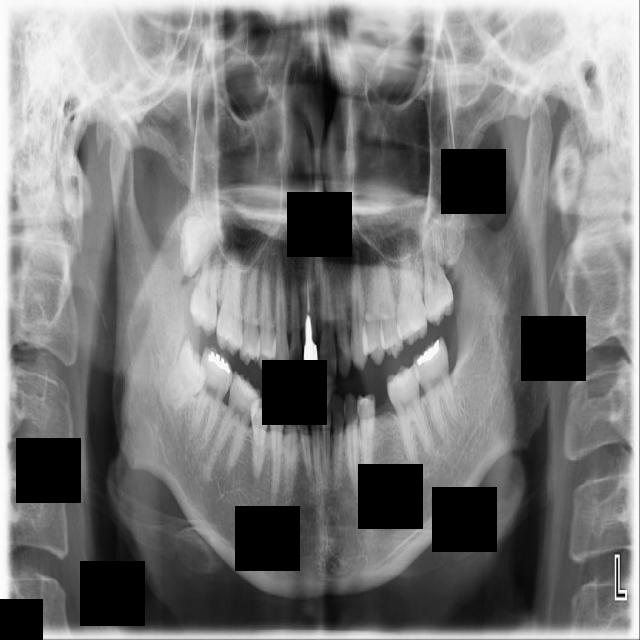3M ESPE Implant: (165, 206, 226, 284)
52: (405, 336, 461, 390), (200, 346, 233, 395), (304, 344, 318, 378)
73: (303, 272, 316, 348), (614, 566, 622, 572)
BioHorizons Implant: (422, 223, 455, 327)
Blue Sky Bio Implant: (408, 335, 467, 442)
Caries: (188, 241, 223, 339)
Implant: (191, 345, 236, 445)
Keystone Dental Implant: (156, 337, 220, 416)
